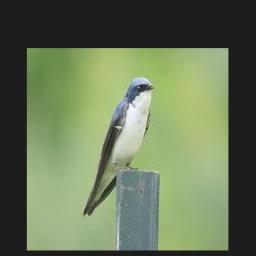Swallow: (83, 77, 156, 216)
